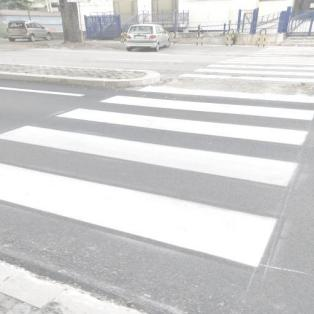Paso de Cebra: (53, 89, 313, 150)
